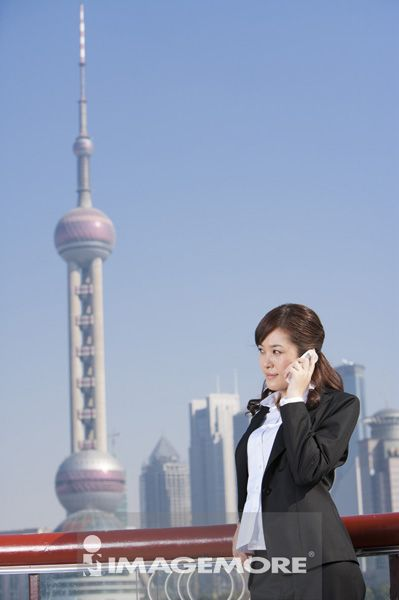talk: (257, 339, 318, 400)
